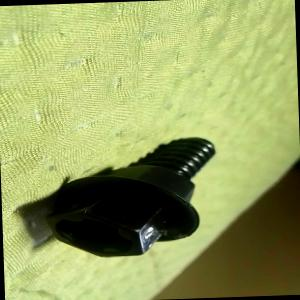parafuso: (43, 135, 219, 258)
